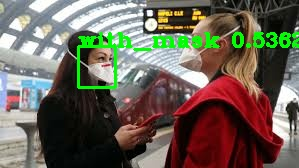with_mask: (182, 14, 245, 80), (68, 32, 120, 94), (291, 98, 297, 103)
